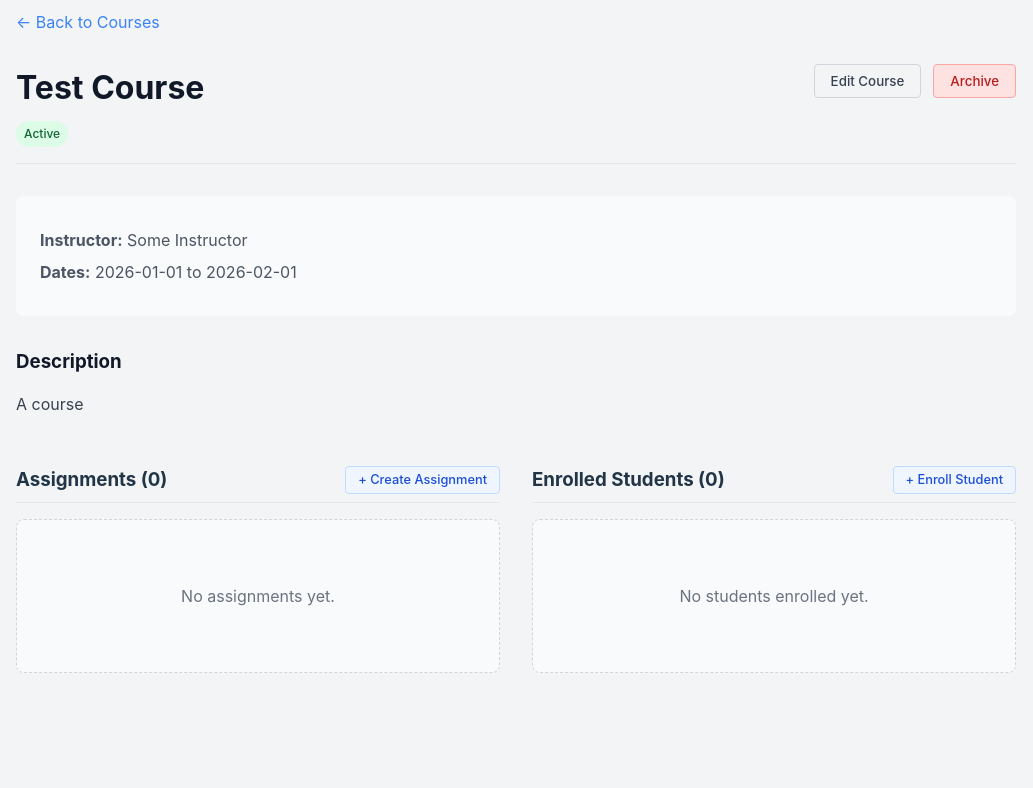
Test case: CourseDetail.vue — student enrollment search › shows a "no matching students" hint when the search returns nothing
Click the button with class "enroll-toggle-btn" showing "+ Enroll Student". click: (954, 480)
box: [892, 466, 1016, 494]
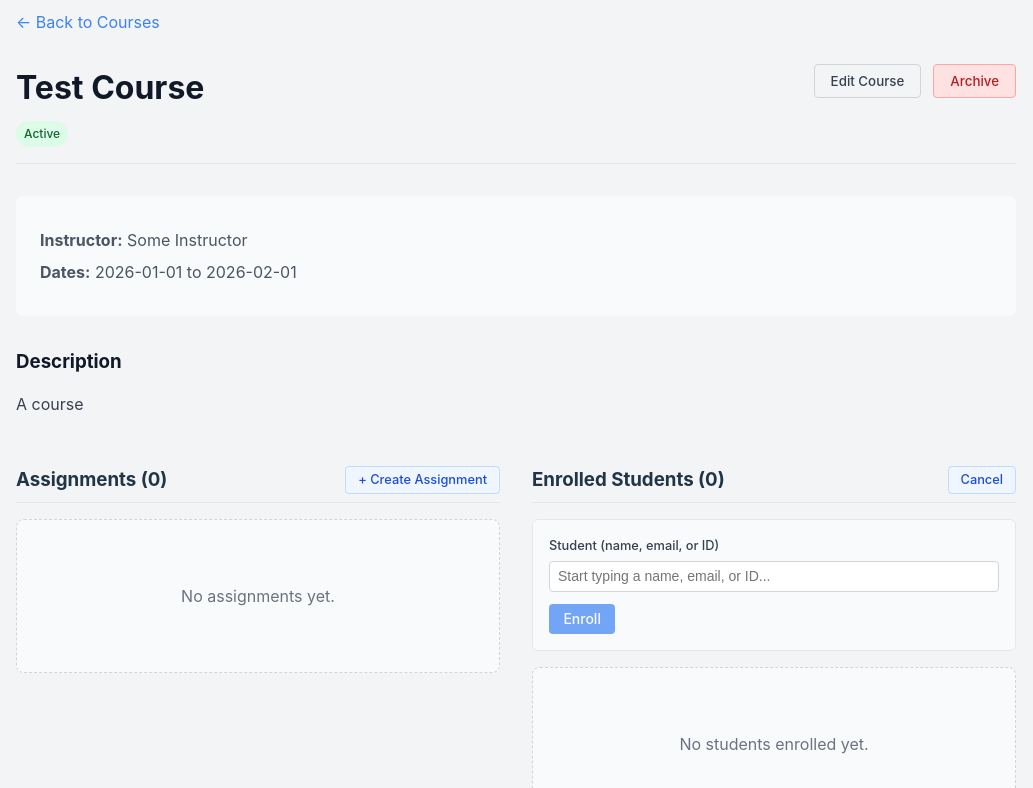
Type "Nobody" into the field with id "enroll-search". click: (774, 576)
box: [549, 561, 999, 592]
Wait 300 ms
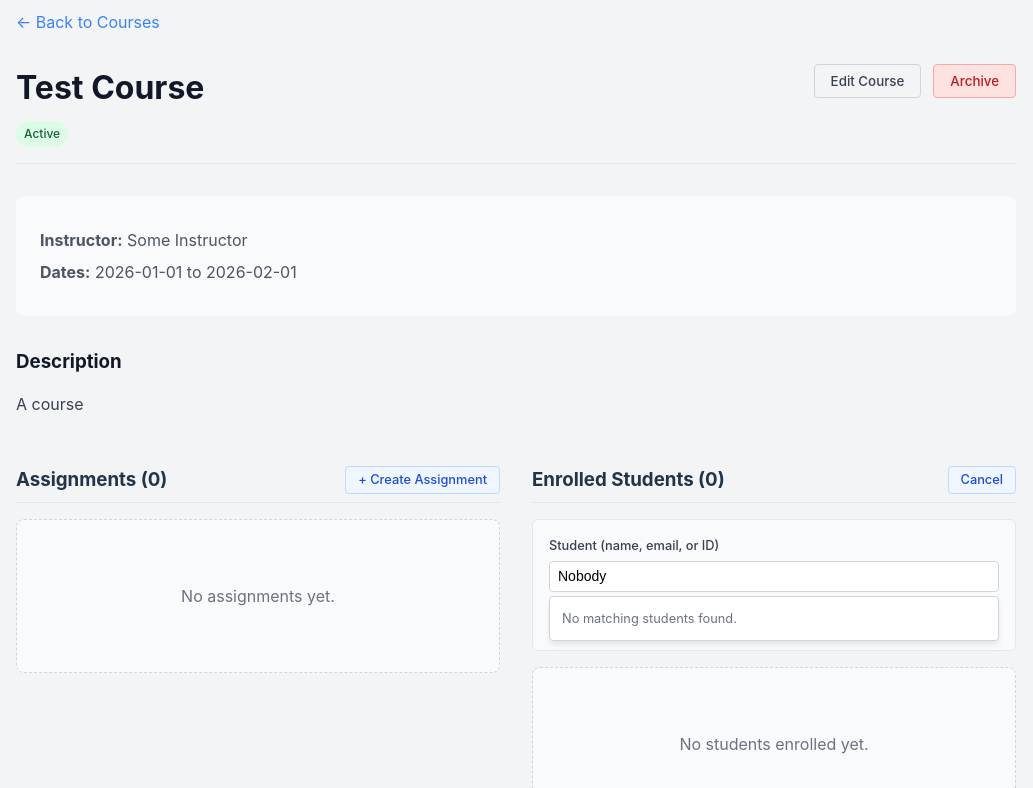
Result: the text "No matching students found." is shown at [562, 611, 737, 626]
